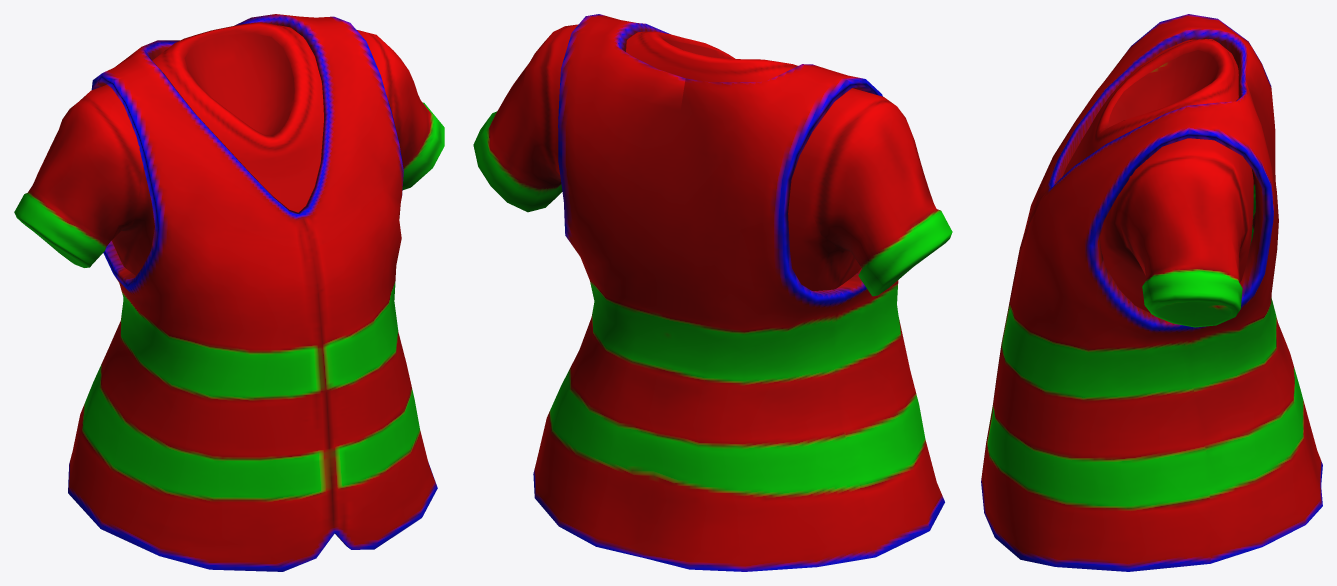
File: Top_TuckedShirtVest.obj
The picture shows the model from 3 angles, left to right: view 1: azimuth 30°, elevation 25°; view 2: azimuth 150°, elevation 25°; view 3: azimuth 270°, elevation 25°; orthographic projection. The views are drawn at different scales.
Parts seen in each view (by area): view 1: Top_TuckedShirtVest_0; view 2: Top_TuckedShirtVest_0; view 3: Top_TuckedShirtVest_0.
Boxes of the visible parts, x1,y1,x2,y2 form: Top_TuckedShirtVest_0: (14,14,444,571); Top_TuckedShirtVest_0: (473,14,952,571); Top_TuckedShirtVest_0: (981,14,1322,571).
Size of the model in its own units: 0.4966 by 0.5121 by 0.3516.
Materials: 1 (1 with a texture image).
